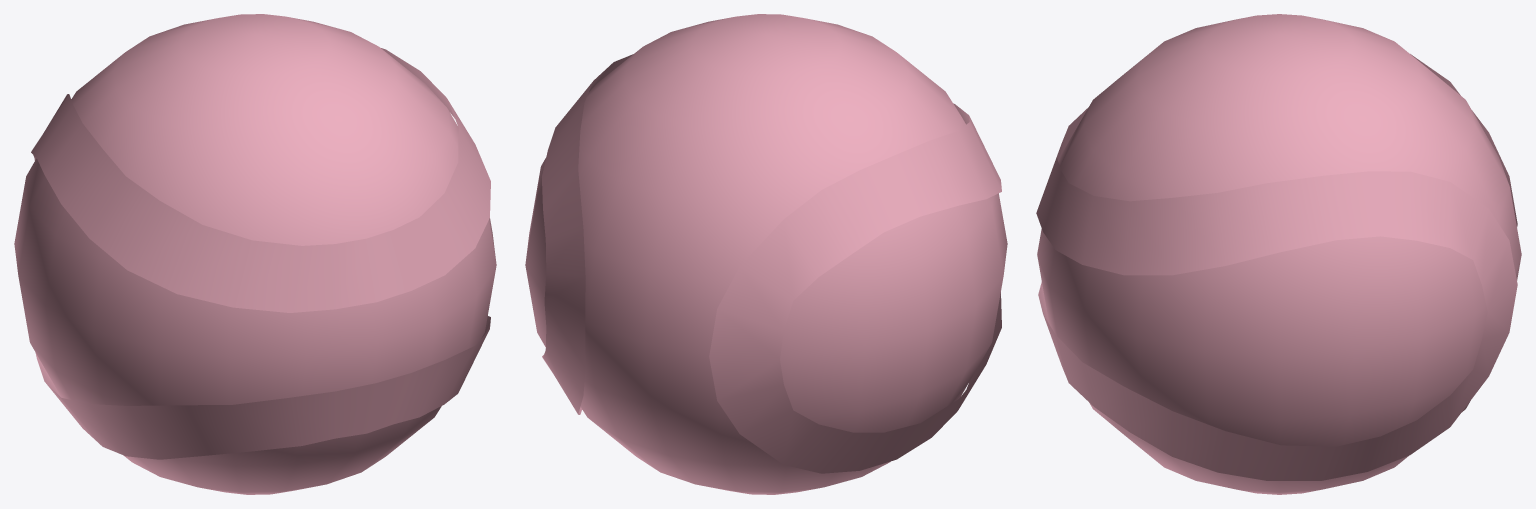
File: Baseball.fbx
3 views of the same model, side by side, from view 1: azimuth 30°, elevation 25°; view 2: azimuth 150°, elevation 25°; view 3: azimuth 270°, elevation 25° (orthographic).
Parts seen in each view (by area): view 1: Baseball; view 2: Baseball; view 3: Baseball.
Boxes of the visible parts, <box> form: Baseball: <box>14,14,496,494</box>; Baseball: <box>525,14,1007,494</box>; Baseball: <box>1036,14,1521,494</box>.
Size of the model in its own units: 10.81 by 10.81 by 10.83.
